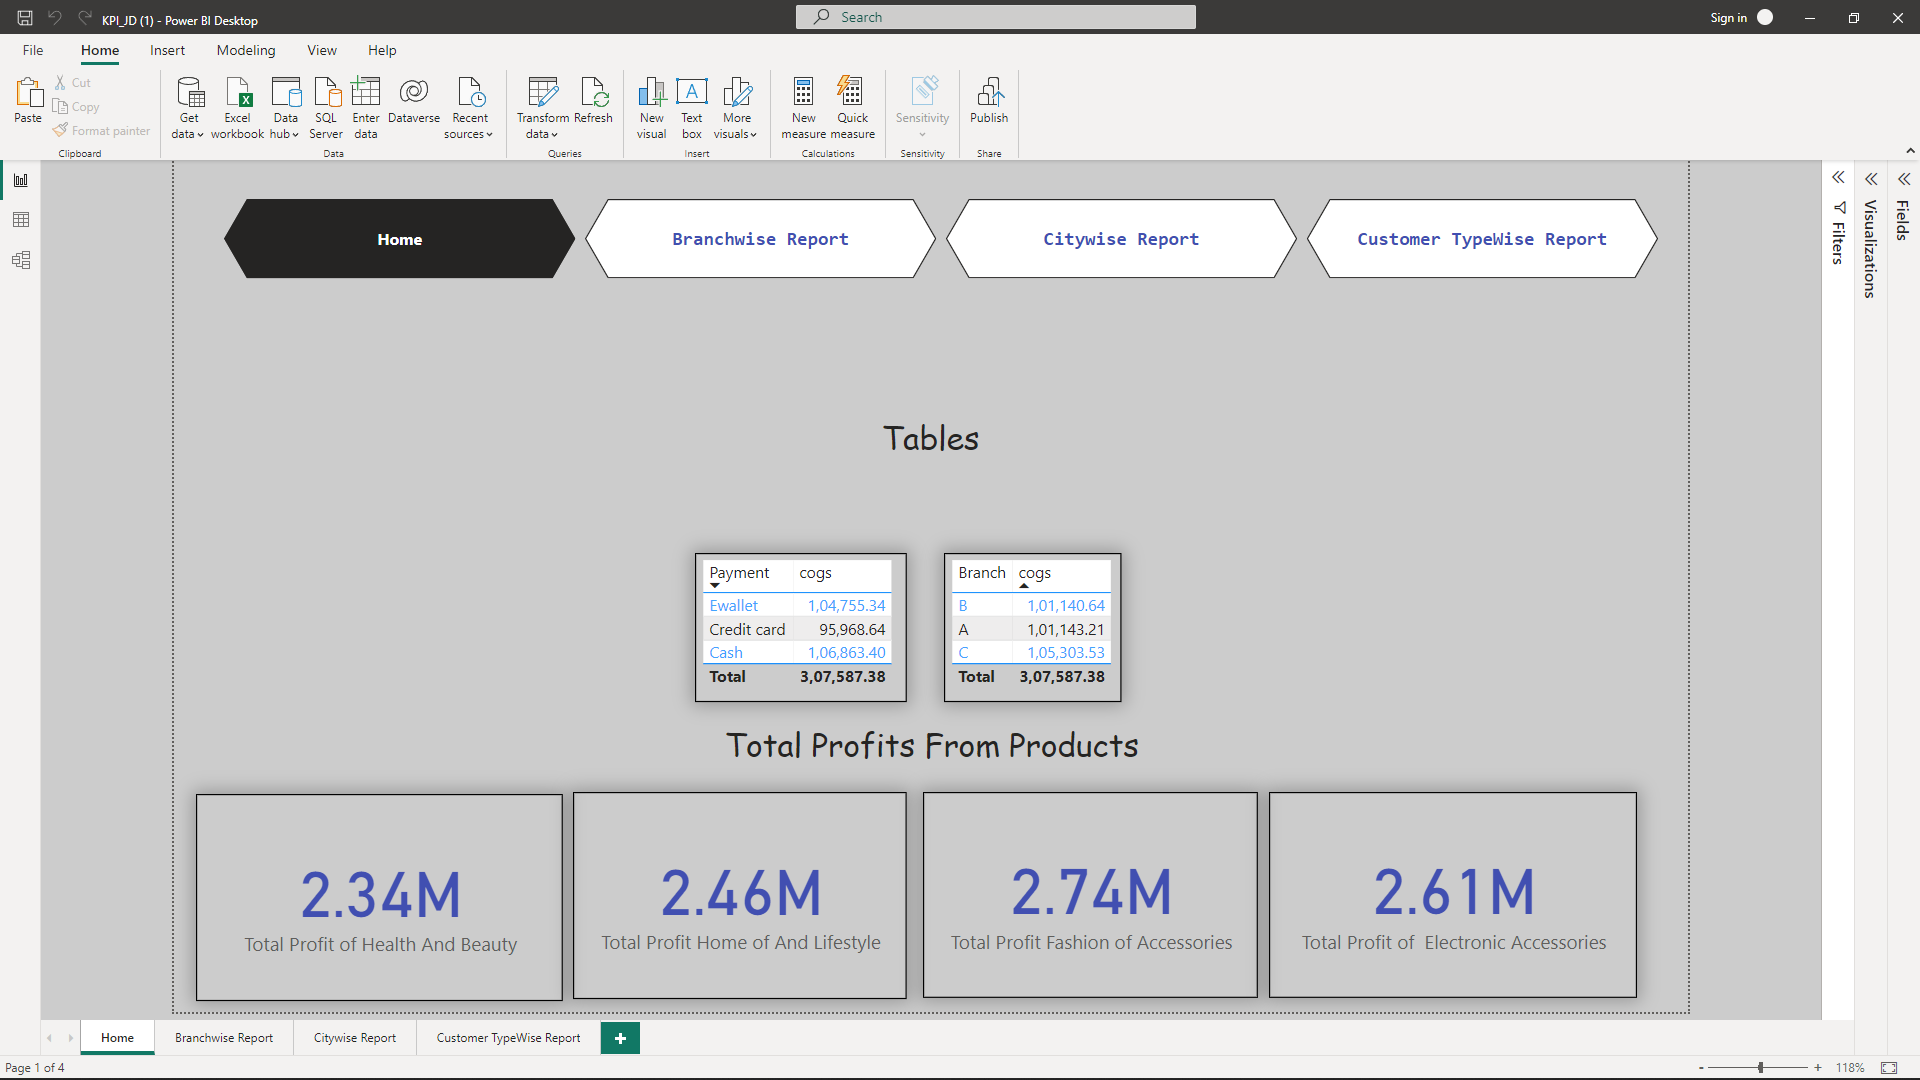

Layout of this report page (visuals, bound fields, positions):
{"tool":"powerbi","page":{"name":"Home","canvas":[1280,720],"ordinal":0},"visuals":[{"type":"pageNavigator","box":[42.7,33.1,1214.7,143.7],"z":0},{"type":"card","fields":{"Values":["Sum(supersales - powr bi.Total Profit From Health And Beauty)"]},"box":[18.3,535.4,310.5,174.8],"z":1000},{"type":"card","fields":{"Values":["Sum(supersales - powr bi.Total Profit From Home And Lifestyle)"]},"box":[337.4,534.2,282.4,174.8],"z":2000},{"type":"card","fields":{"Values":["Sum(supersales - powr bi.Total Profit From Electronic Accessories)"]},"box":[925.6,533.8,310.9,174.1],"z":4000},{"type":"card","fields":{"Values":["Sum(supersales - powr bi.Total Profit From Fashion Accessories)"]},"box":[633,533.8,283,174.1],"z":5000},{"type":"textbox","box":[180.2,471.1,920.4,50.5],"z":7000},{"type":"tableEx","fields":{"Values":["supersales - powr bi.Payment","Sum(supersales - powr bi.cogs)"]},"box":[440.6,331.8,178.5,126.3],"z":9000},{"type":"tableEx","fields":{"Values":["supersales - powr bi.Branch","Sum(supersales - powr bi.cogs)"]},"box":[650.4,331.8,149.8,126.3],"z":10000},{"type":"textbox","box":[471.1,211.6,337,50.5],"z":11000}]}

Visuals, with their boxes on the page's 1280x720 design canvas (x1, y1, x2, y2). These are canvas units, not pixel positions in the 1920x1080 screenshot, which may show the page scaled, cropped or inside an application window:
pageNavigator: 43,33,1257,177
card - Sum(supersales - powr bi.Total Profit From Health And Beauty): 18,535,329,710
card - Sum(supersales - powr bi.Total Profit From Home And Lifestyle): 337,534,620,709
card - Sum(supersales - powr bi.Total Profit From Electronic Accessories): 926,534,1236,708
card - Sum(supersales - powr bi.Total Profit From Fashion Accessories): 633,534,916,708
textbox: 180,471,1101,522
tableEx - supersales - powr bi.Payment x Sum(supersales - powr bi.cogs): 441,332,619,458
tableEx - supersales - powr bi.Branch x Sum(supersales - powr bi.cogs): 650,332,800,458
textbox: 471,212,808,262
